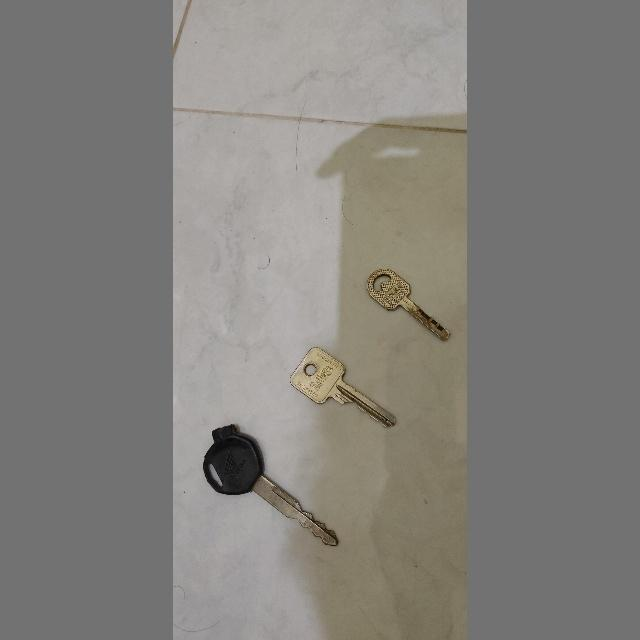Keys: (192, 422, 342, 558), (288, 342, 398, 438), (368, 264, 457, 354)
